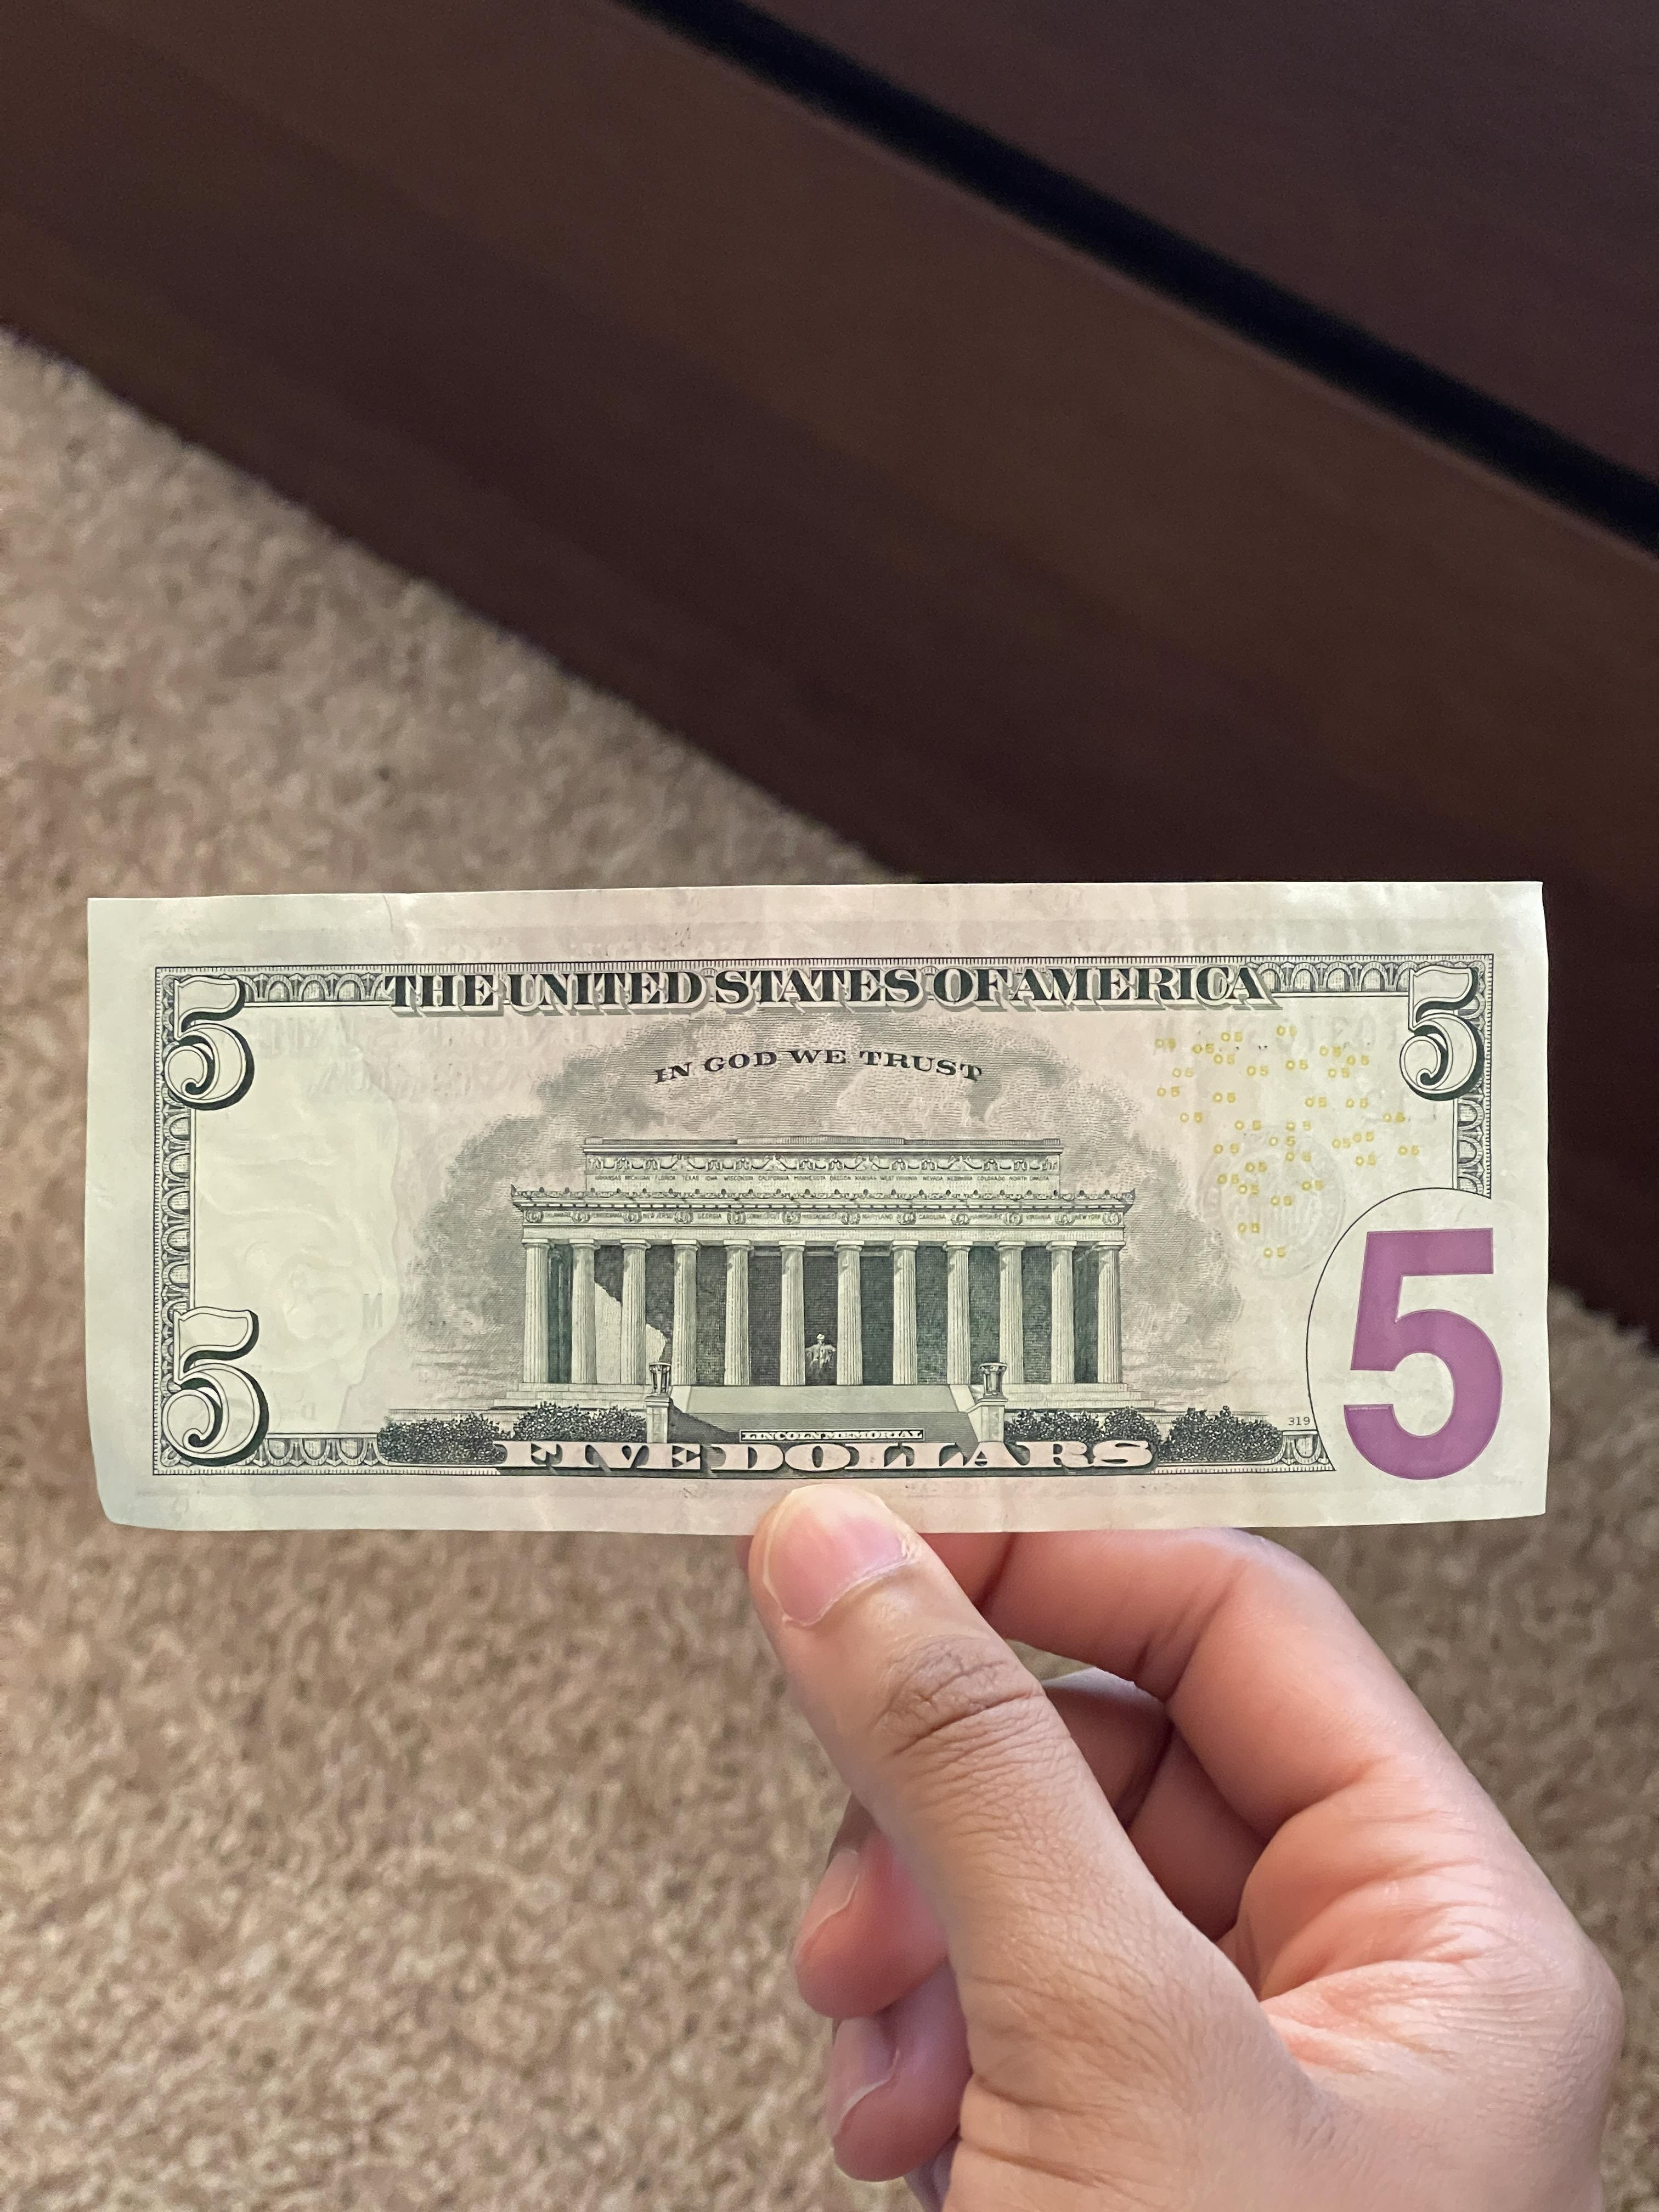FiveBill: (77, 878, 1561, 1538)
